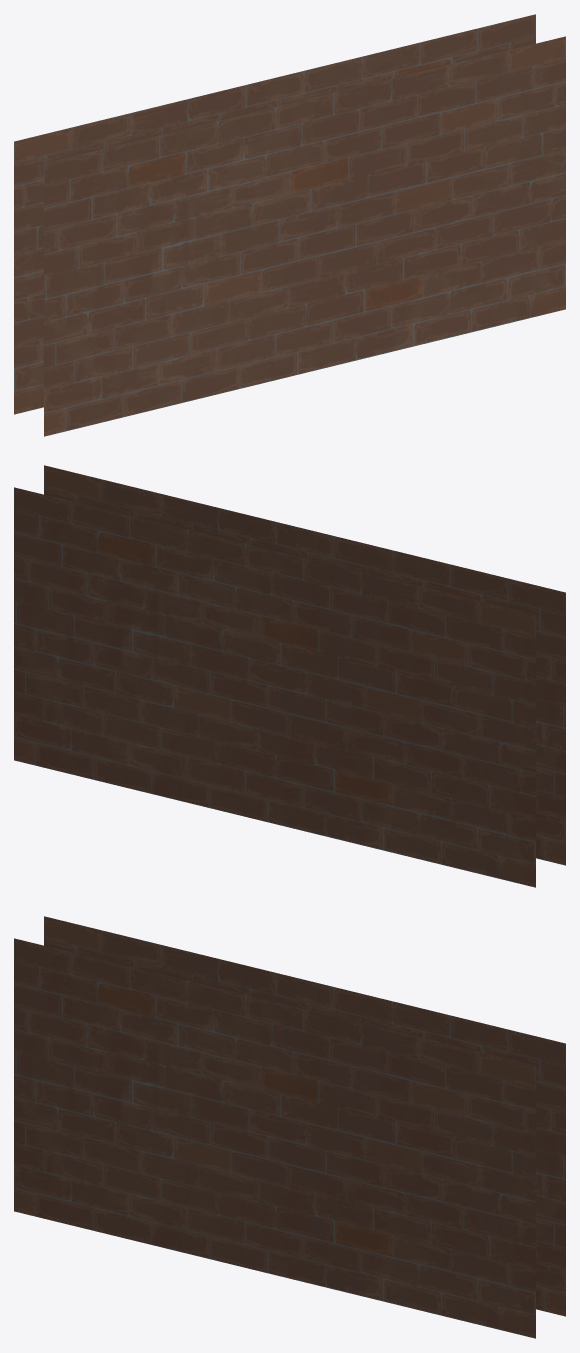
Rendered from Brick_Plain_1.gltf.
The picture shows the model from 3 angles, top to bottom: view 1: azimuth 30°, elevation 25°; view 2: azimuth 150°, elevation 25°; view 3: azimuth 330°, elevation 25°; orthographic projection.
Visible parts, largest first — view 1: Brick_Plain_1; view 2: Brick_Plain_1; view 3: Brick_Plain_1.
Part boxes in pixels (<box>): Brick_Plain_1: <box>14,14,565,436</box>; Brick_Plain_1: <box>14,465,565,887</box>; Brick_Plain_1: <box>14,916,565,1338</box>.
Bounding box in the file's own units: 2 × 1 × 0.2.
Materials: 2 (2 with a texture image).
